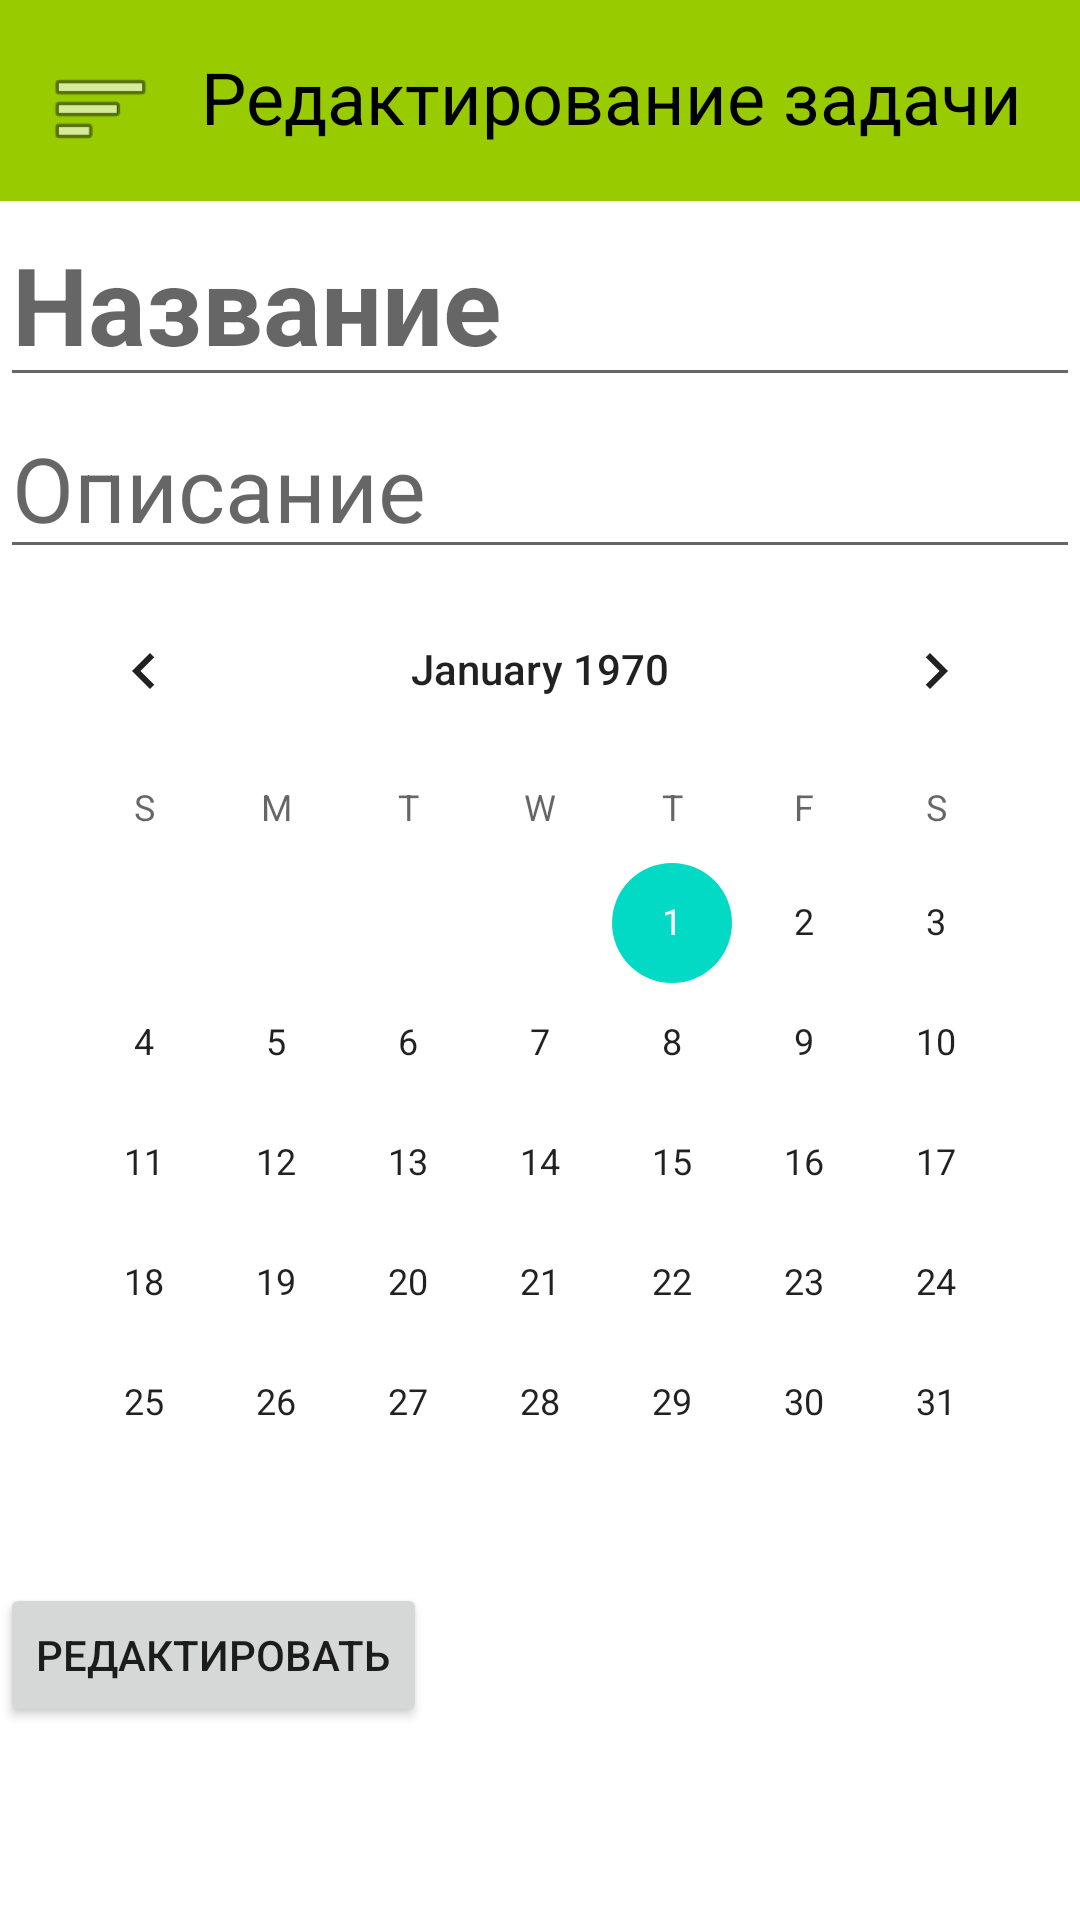

Where icons sit on this 1080 × 1920 app screen, as detection(x1, y1, x2, y2):
sort by size: detection(55, 80, 146, 138)
